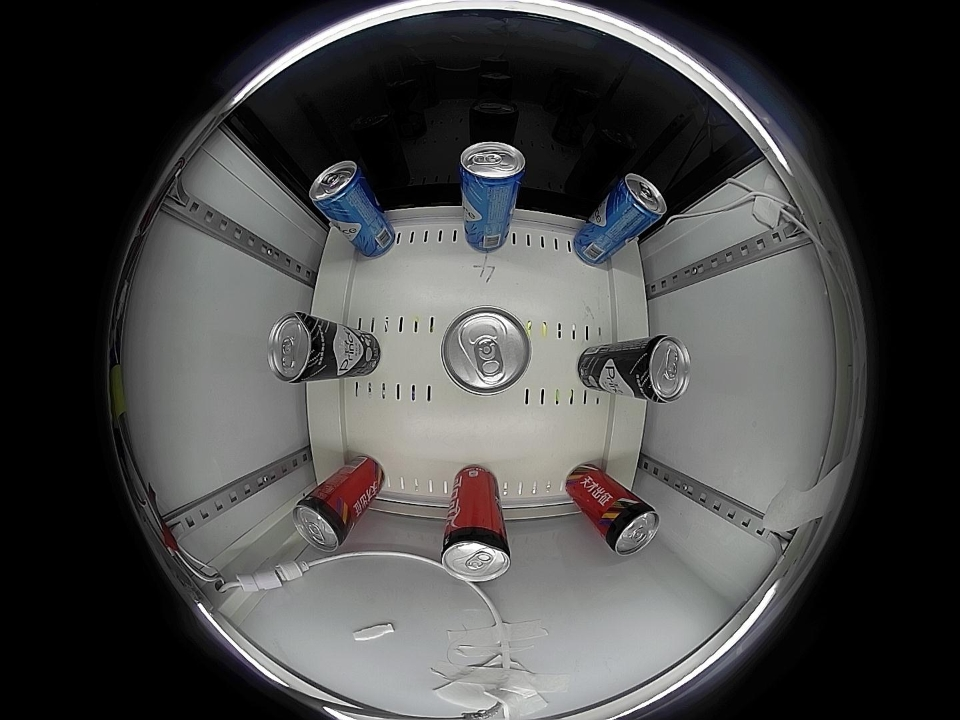lingdukele: (441, 522, 511, 583), (601, 497, 660, 556), (293, 493, 352, 552)
qingdaowangzi-1: (439, 306, 534, 396), (267, 312, 332, 384), (630, 335, 691, 403)
qingdaowangzi-2: (458, 141, 526, 200), (309, 161, 369, 217), (612, 173, 667, 229)
